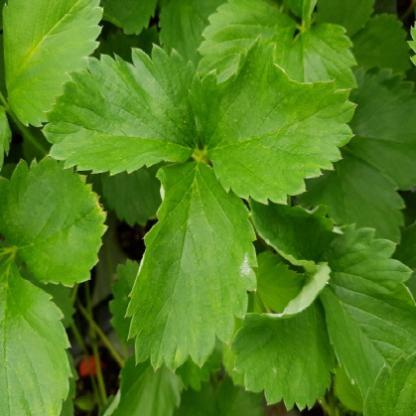Strawberry_Powdery_Mildew_Leaf: (124, 157, 260, 374)
